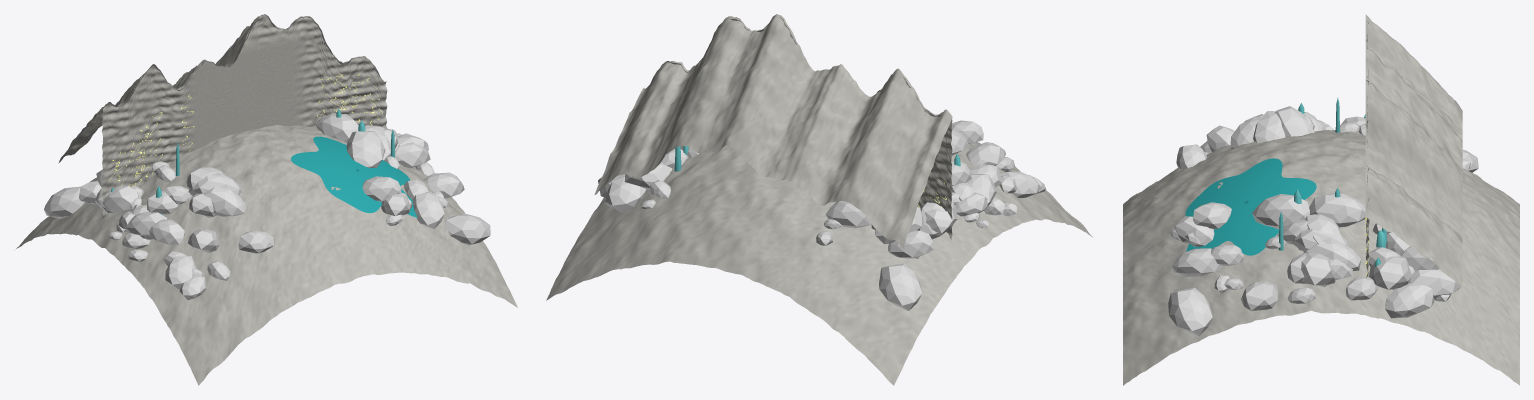
Rendered from coast.glb.
3 renders of one model, left to right at view 1: azimuth 30°, elevation 25°; view 2: azimuth 150°, elevation 25°; view 3: azimuth 270°, elevation 25°, orthographic. The views are drawn at different scales.
Visible parts, largest first — view 1: Istok • curved landing coast, Description cliff • natural continuous face, Turquoise tide pool, Cliff • layered crest, Coastal fragment 024, Coastal fragment 078, Coastal fragment 061, Coastal fragment 049, Coastal fragment 012, Coastal fragment 080, Coastal fragment 009, Coastal fragment 070 (+12 smaller); view 2: Istok • curved landing coast, Cliff • layered crest, Description cliff • natural continuous face, Coastal fragment 061, Coastal fragment 058, Coastal fragment 067, Coastal fragment 021, Coastal fragment 005, Coastal fragment 009, Coastal fragment 054, Coastal fragment 001, Coastal fragment 033 (+3 smaller); view 3: Istok • curved landing coast, Cliff • layered crest, Turquoise tide pool, Coastal fragment 078, Coastal fragment 080, Coastal fragment 024, Coastal fragment master, Coastal fragment 066, Coastal fragment 012, Coastal fragment 026, Coastal fragment 084, Coastal fragment 058 (+16 smaller).
Part boxes in pixels (x1,y1,x2,y2): Istok • curved landing coast: (16, 125, 517, 385); Description cliff • natural continuous face: (101, 14, 387, 218); Turquoise tide pool: (291, 136, 417, 217); Cliff • layered crest: (58, 14, 386, 163); Coastal fragment 024: (346, 131, 385, 168); Coastal fragment 078: (445, 214, 490, 245); Coastal fragment 061: (44, 186, 84, 218); Coastal fragment 049: (203, 186, 245, 216); Coastal fragment 012: (412, 191, 444, 228); Coastal fragment 080: (315, 113, 358, 142); Coastal fragment 009: (165, 256, 196, 289); Coastal fragment 070: (362, 176, 401, 201); Istok • curved landing coast: (546, 142, 1092, 385); Cliff • layered crest: (594, 14, 952, 248); Description cliff • natural continuous face: (643, 16, 952, 239); Coastal fragment 061: (879, 263, 922, 310); Coastal fragment 058: (605, 174, 646, 212); Coastal fragment 067: (888, 230, 933, 258); Coastal fragment 021: (826, 201, 871, 228); Coastal fragment 005: (966, 142, 1005, 166); Coastal fragment 009: (1000, 171, 1041, 198); Coastal fragment 054: (624, 162, 672, 189); Coastal fragment 001: (967, 174, 996, 213); Coastal fragment 033: (955, 192, 987, 216); Istok • curved landing coast: (1123, 130, 1519, 385); Cliff • layered crest: (1365, 14, 1462, 287); Turquoise tide pool: (1185, 158, 1316, 255); Coastal fragment 078: (1168, 287, 1212, 336); Coastal fragment 080: (1309, 193, 1365, 227); Coastal fragment 024: (1252, 194, 1309, 226); Coastal fragment master: (1385, 283, 1434, 318); Coastal fragment 066: (1369, 256, 1411, 289); Coastal fragment 012: (1172, 248, 1222, 276); Coastal fragment 026: (1301, 253, 1335, 285); Coastal fragment 084: (1241, 281, 1278, 310); Coastal fragment 058: (1409, 269, 1460, 298).
Bounding box in the file's own units: 9.18 × 6.62 × 9.
